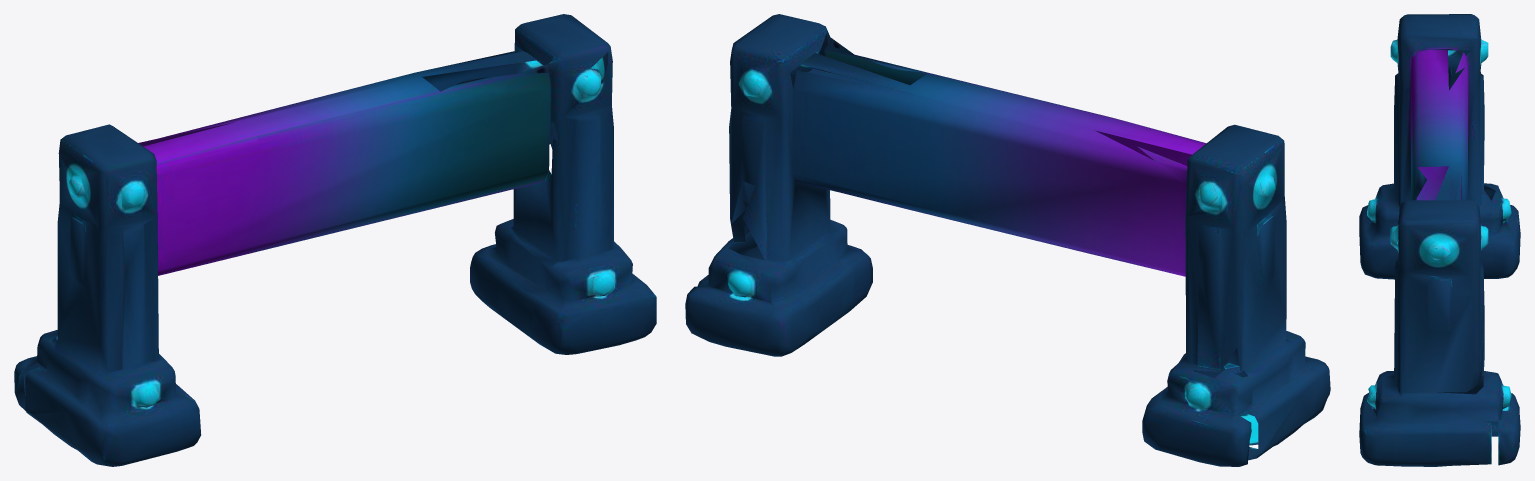
The model's file is gate_narrow.glb.
The picture shows the model from 3 angles, left to right: view 1: azimuth 30°, elevation 25°; view 2: azimuth 150°, elevation 25°; view 3: azimuth 270°, elevation 25°; orthographic projection. The views are drawn at different scales.
Visible parts, largest first — view 1: Mesh1.0; view 2: Mesh1.0; view 3: Mesh1.0.
Part boxes in pixels (bbox=[...]): Mesh1.0: bbox=[14, 14, 656, 466]; Mesh1.0: bbox=[685, 14, 1330, 466]; Mesh1.0: bbox=[1359, 14, 1520, 466].
Size of the model in its own units: 1.91 by 0.9354 by 0.5636.
Materials: 1 (1 with a texture image).
